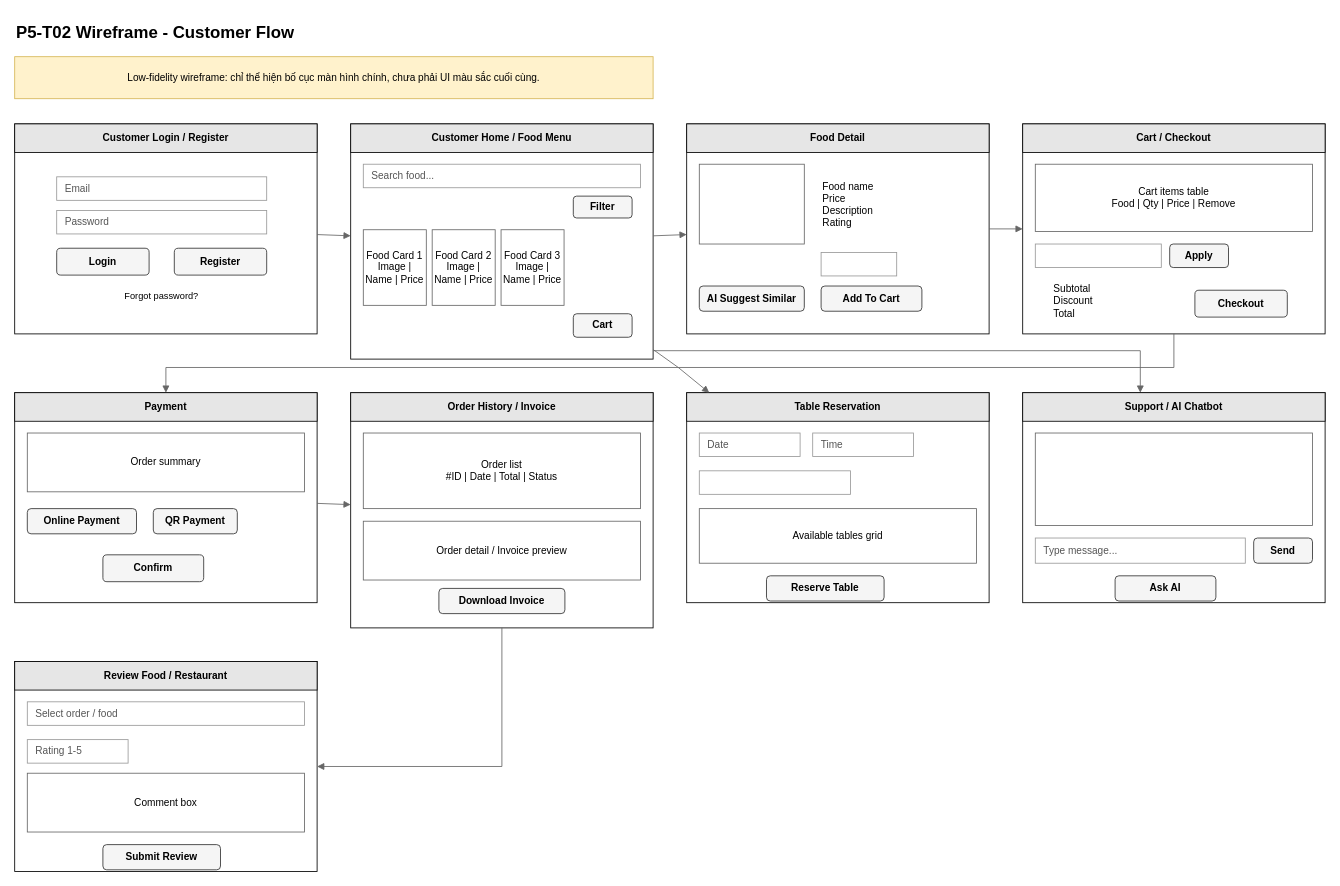
The diagram is 1340 pixels wide and 886 high, and some of its shapes have lost their labels. The centre of each missing label's shape, as x and y in pixels:
Chat messages area: [1173,478]
Coupon code: [1097,255]
Food Image: [751,203]
Number of guests: [774,482]
Quantity: [858,264]
